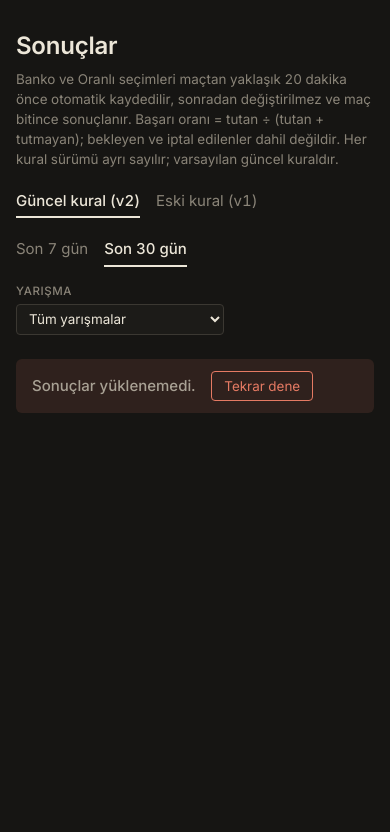
Test: Results page › shows an error with a retry button
Expected: the message "Sonuçlar yüklenemedi. Tekrar dene" is shown, [16,359,374,413]
Step 1. Click the button "Tekrar dene" → (262, 386), box [211,371,313,401]
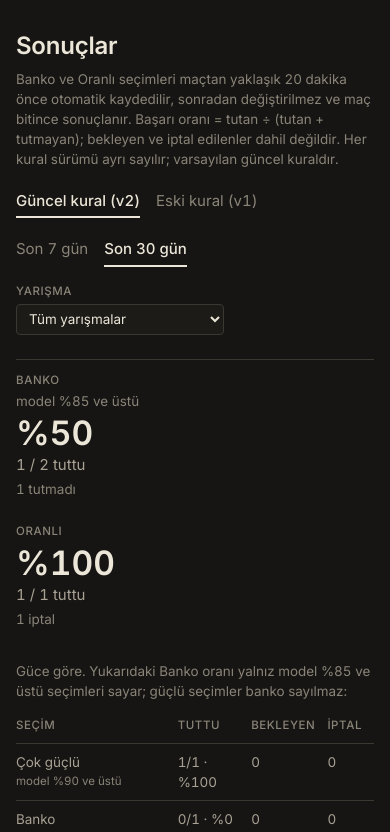
Expected: the element named "Banko başarı oranı" is shown, [16,373,139,497]
